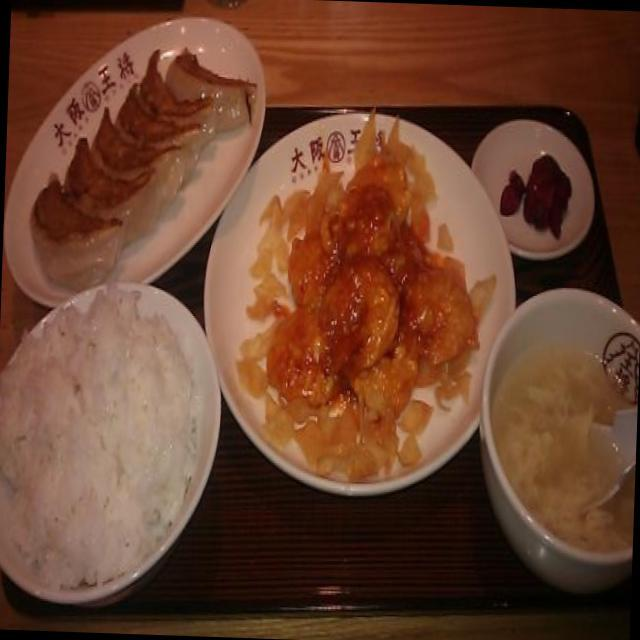Rice: (0, 277, 203, 597)
